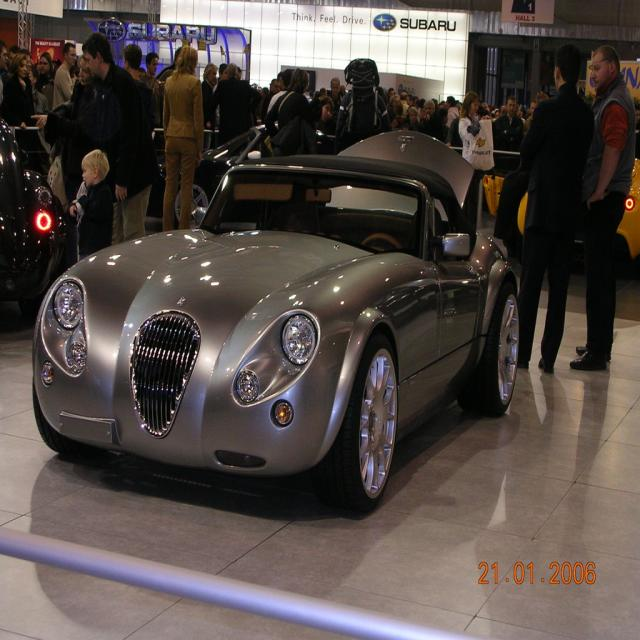car: (27, 135, 527, 506)
